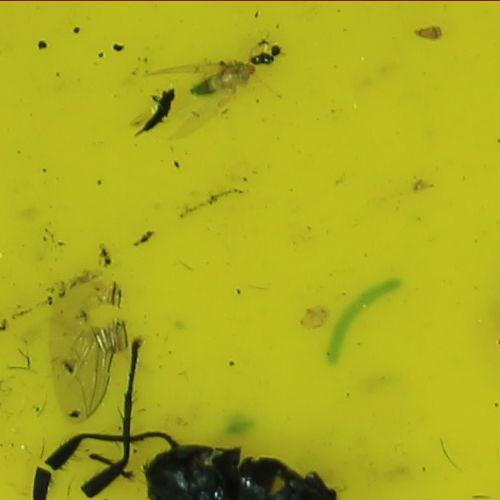Glycaspis: (190, 55, 257, 97)
